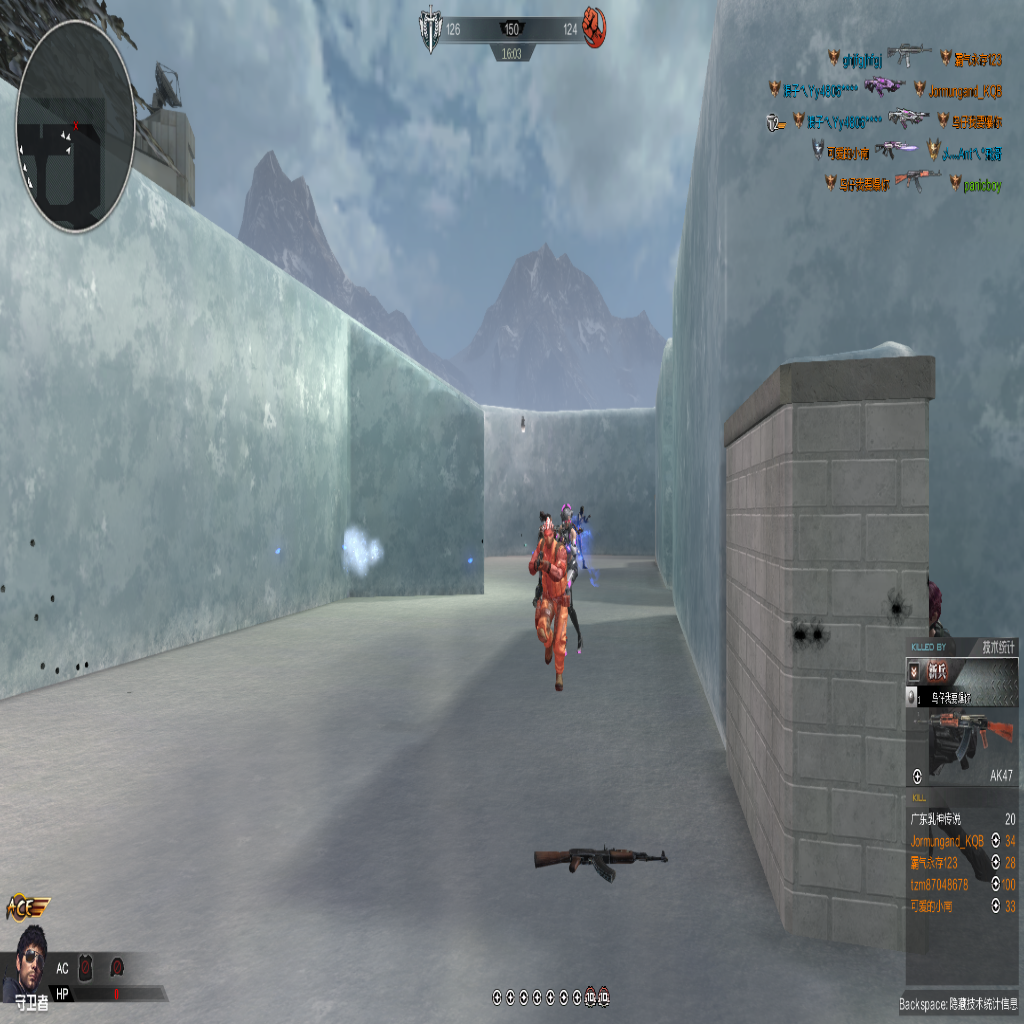tt: (531, 511, 572, 697), (559, 509, 582, 656), (573, 503, 590, 562)
